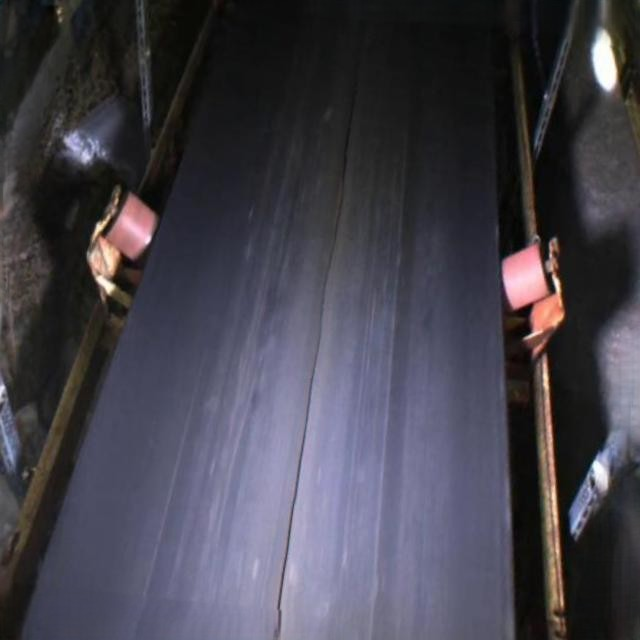Tear: (262, 0, 378, 640)
